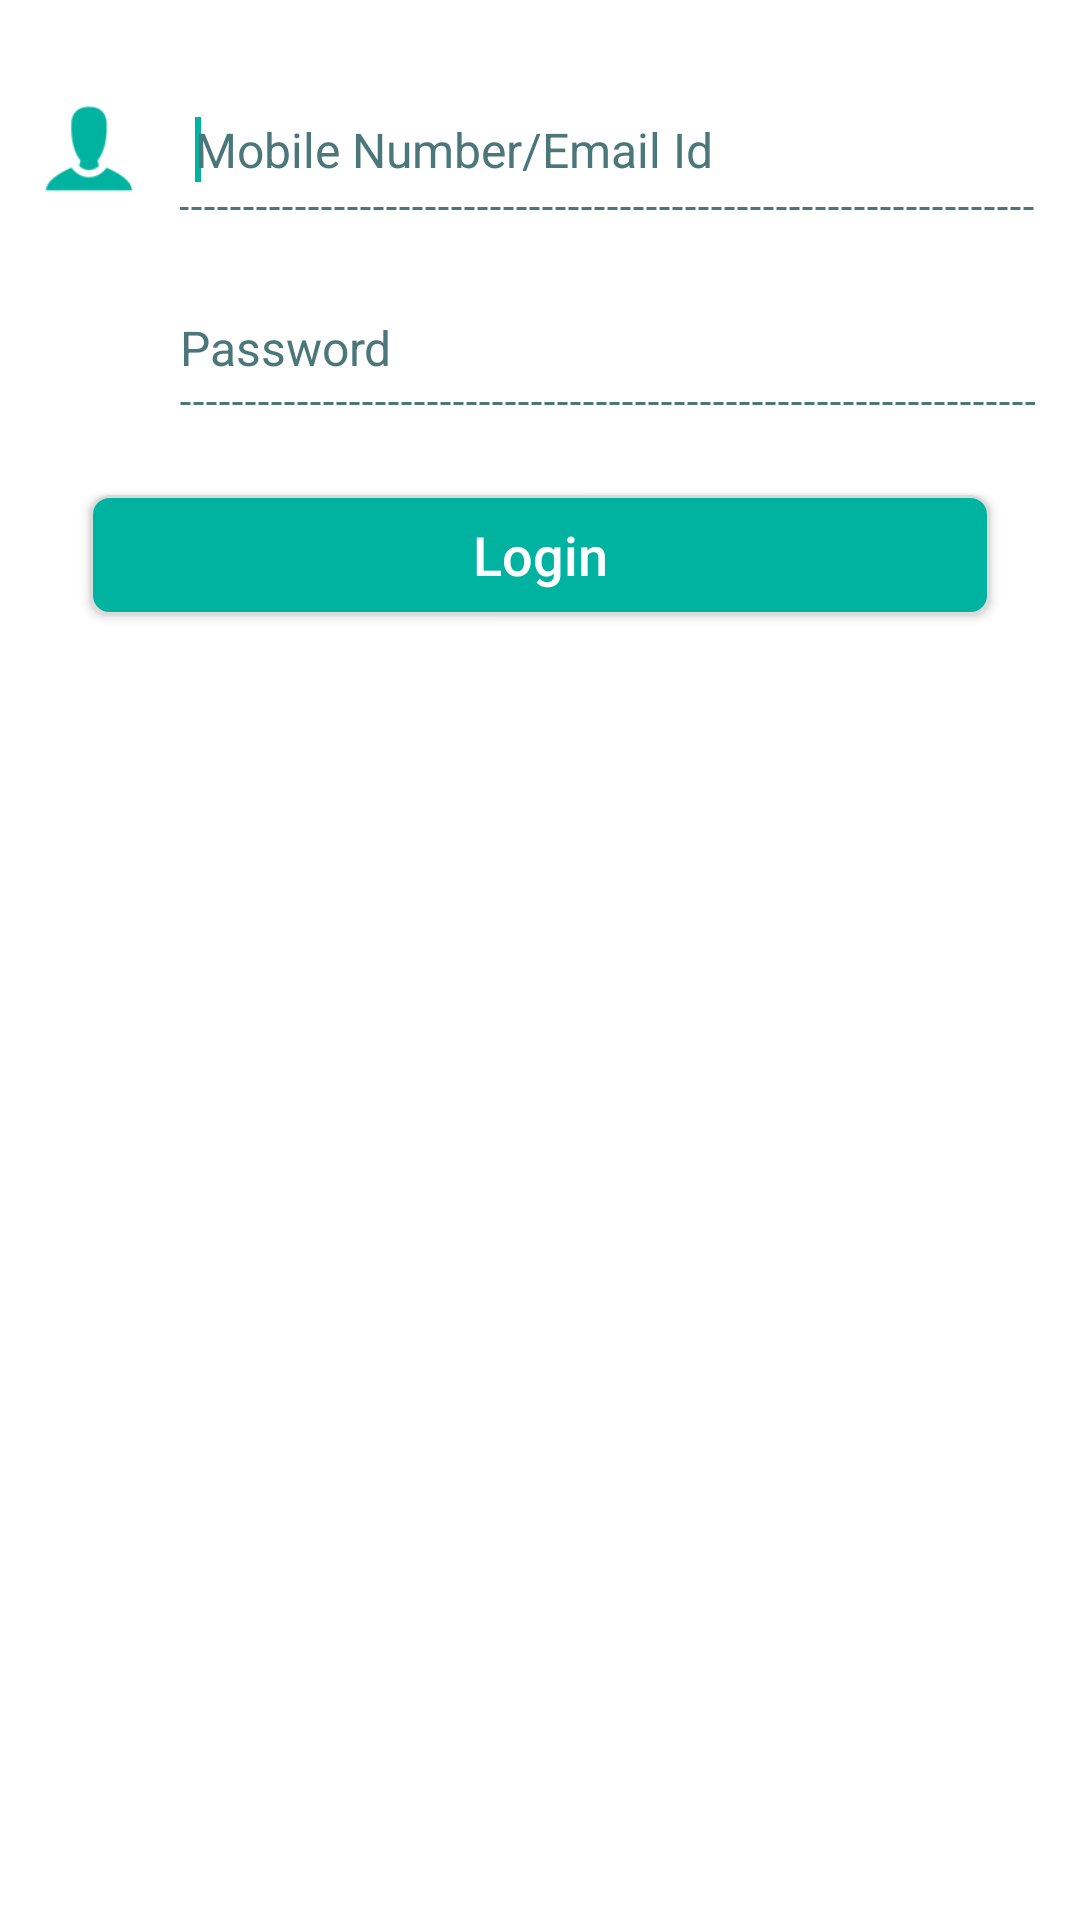

Where to tap for icons on this 1080 × 1920 app screen, as (x=x, y=y):
user: (x=89, y=149)
